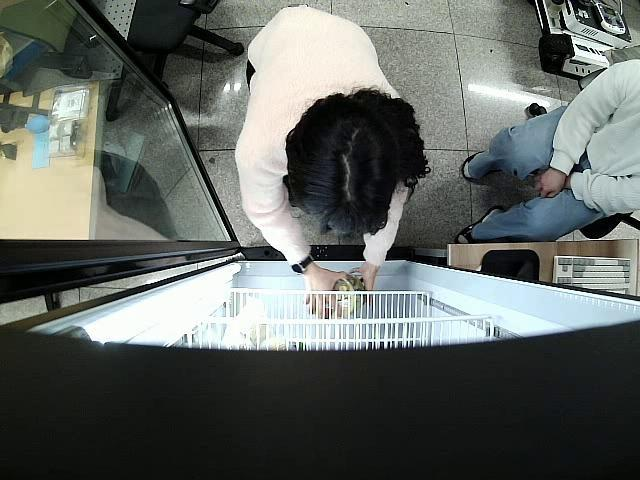03_chapagetti_L: (322, 276, 366, 318)
